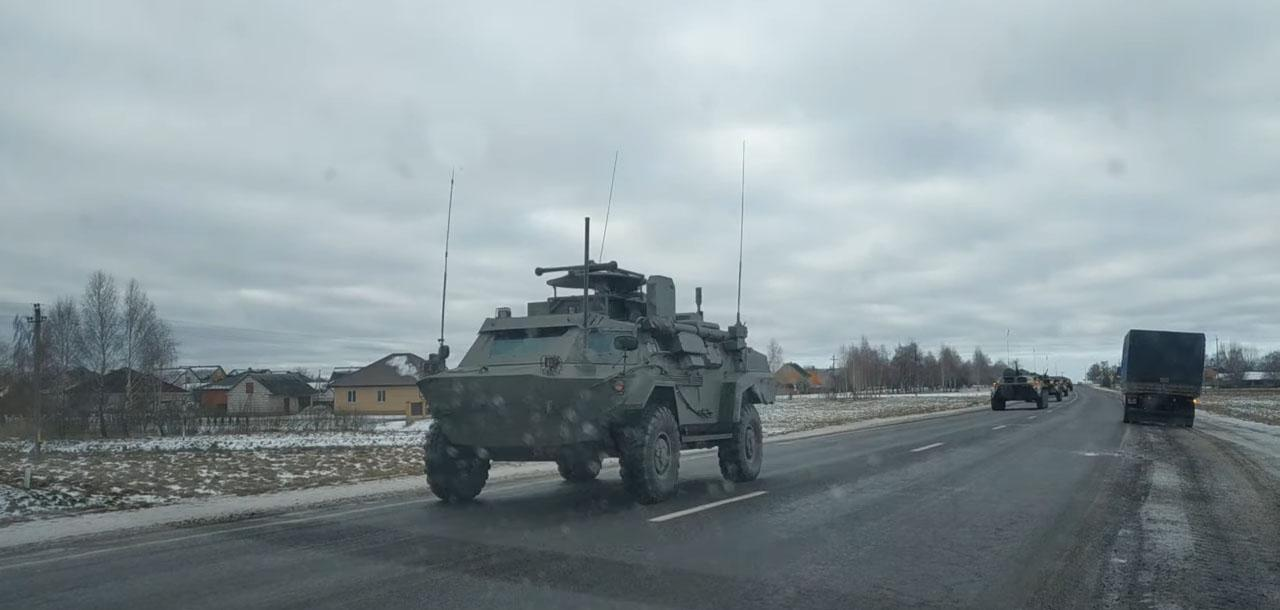tank: (415, 259, 772, 523), (986, 364, 1053, 417)
truck: (1118, 323, 1202, 433)
